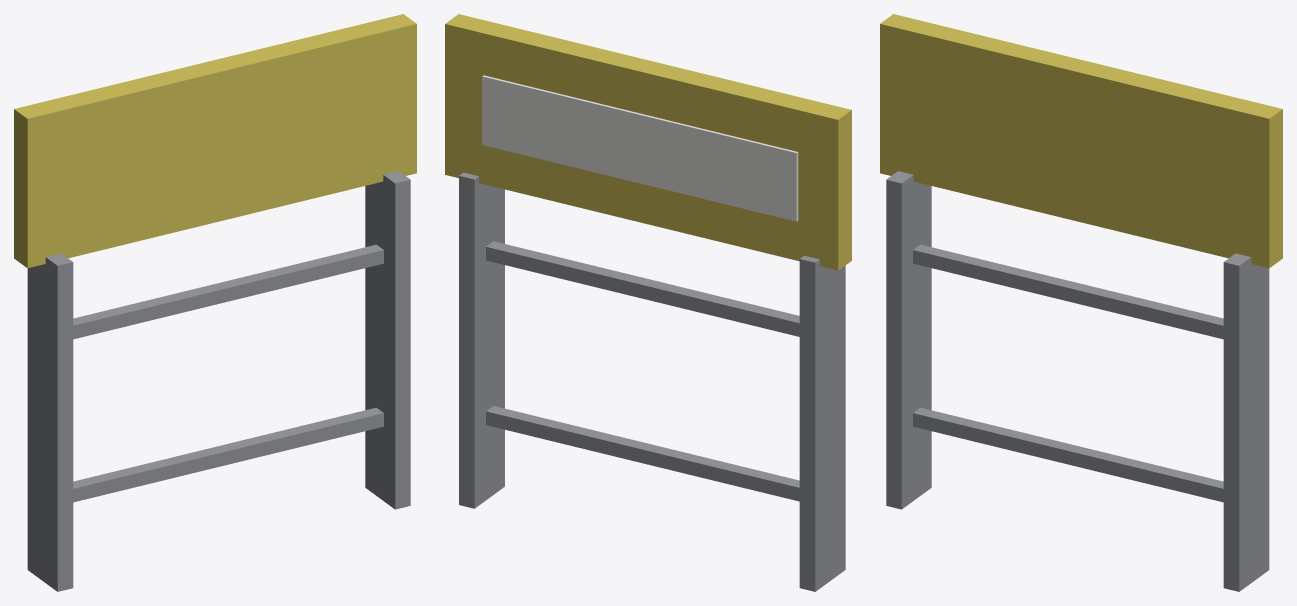
File: prop_rooftop_yellow.glb
3 views of the same model, side by side, from view 1: azimuth 30°, elevation 25°; view 2: azimuth 150°, elevation 25°; view 3: azimuth 330°, elevation 25° (orthographic).
Visible parts, largest first — view 1: rooftop_yellow; view 2: rooftop_yellow; view 3: rooftop_yellow.
Boxes of the visible parts, x1,y1,x2,y2 form: rooftop_yellow: (14,14,416,591); rooftop_yellow: (445,14,851,591); rooftop_yellow: (880,14,1282,591).
Bounding box in the file's own units: 3 × 3.45 × 0.4.
